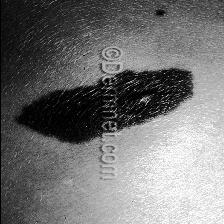Potentially Malignant Skin Tumors: (119, 59, 203, 131), (19, 78, 96, 149)
